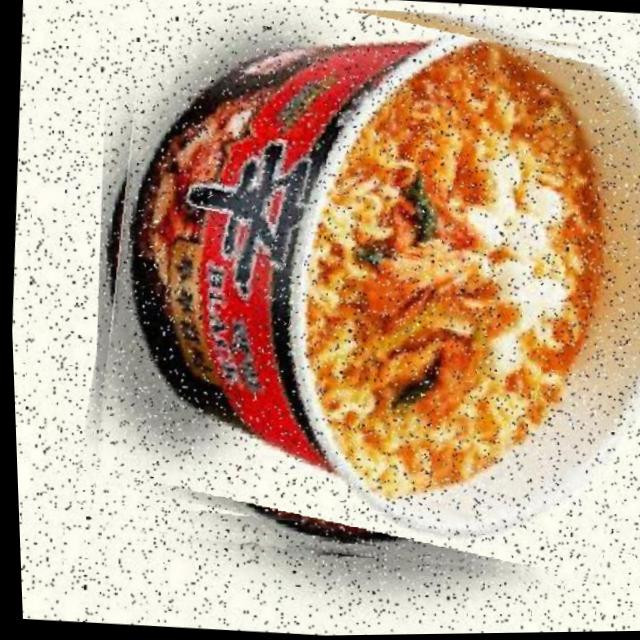Miscellaneous: (66, 0, 640, 590)
